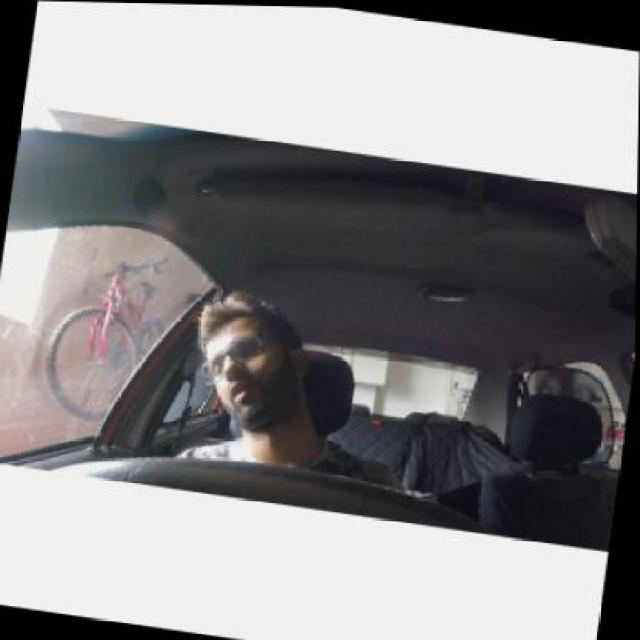drowsy: (195, 286, 311, 441)
